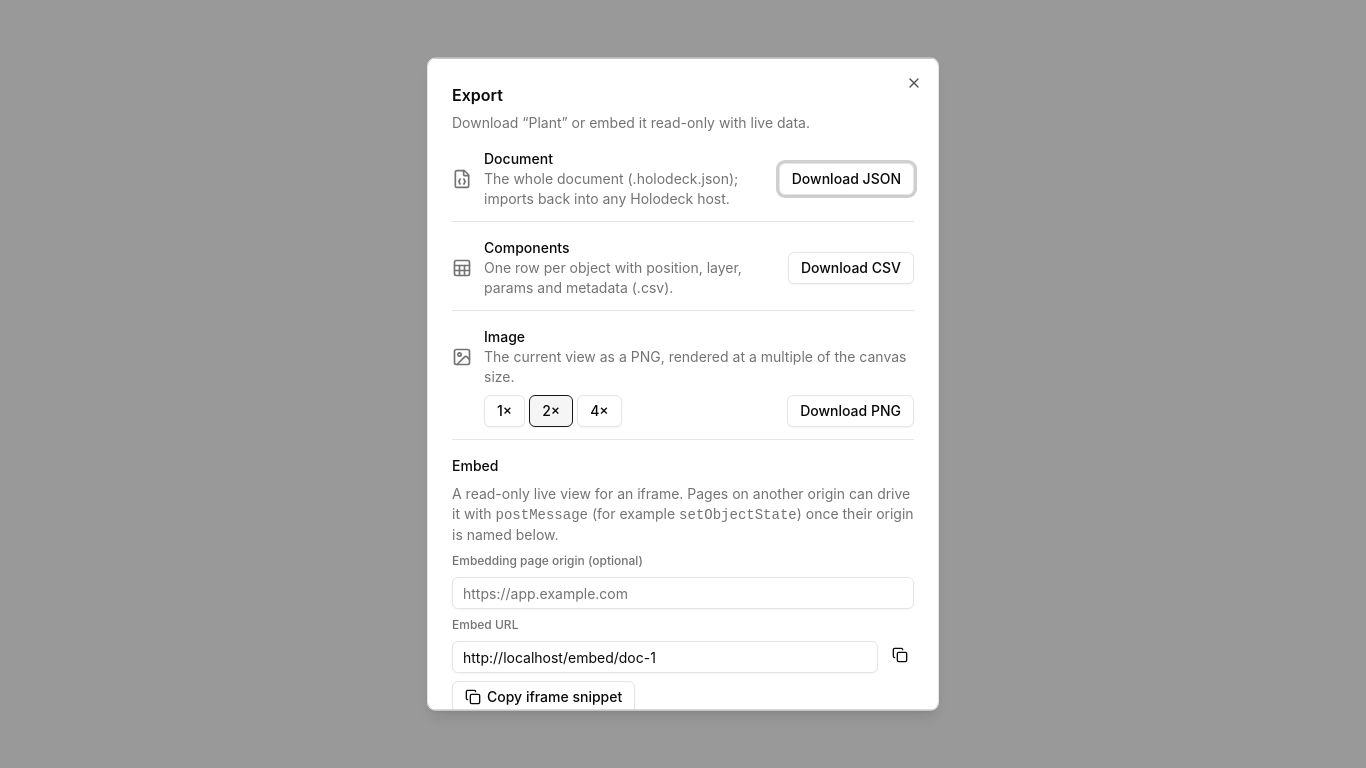
Scenario: ExportDialog › cancels a running PNG export without an error notice
The image size is (1366, 768).
Step 1. Click the button with test id "export-png" → (851, 411), box [787,395,914,427]
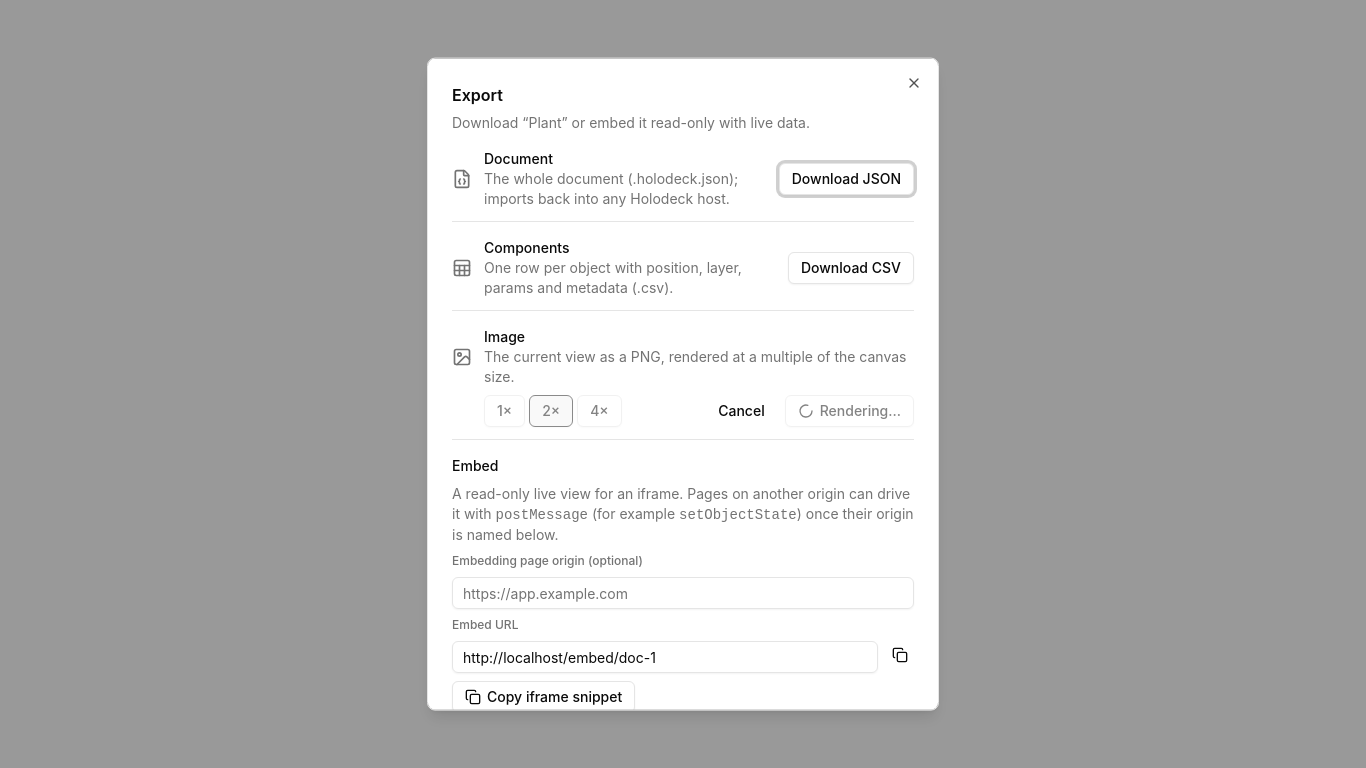
Check: the button "Rendering…" is shown, box [785,395,914,427]
Step 2. Click the button "Cancel" → (741, 411), box [706,395,777,427]
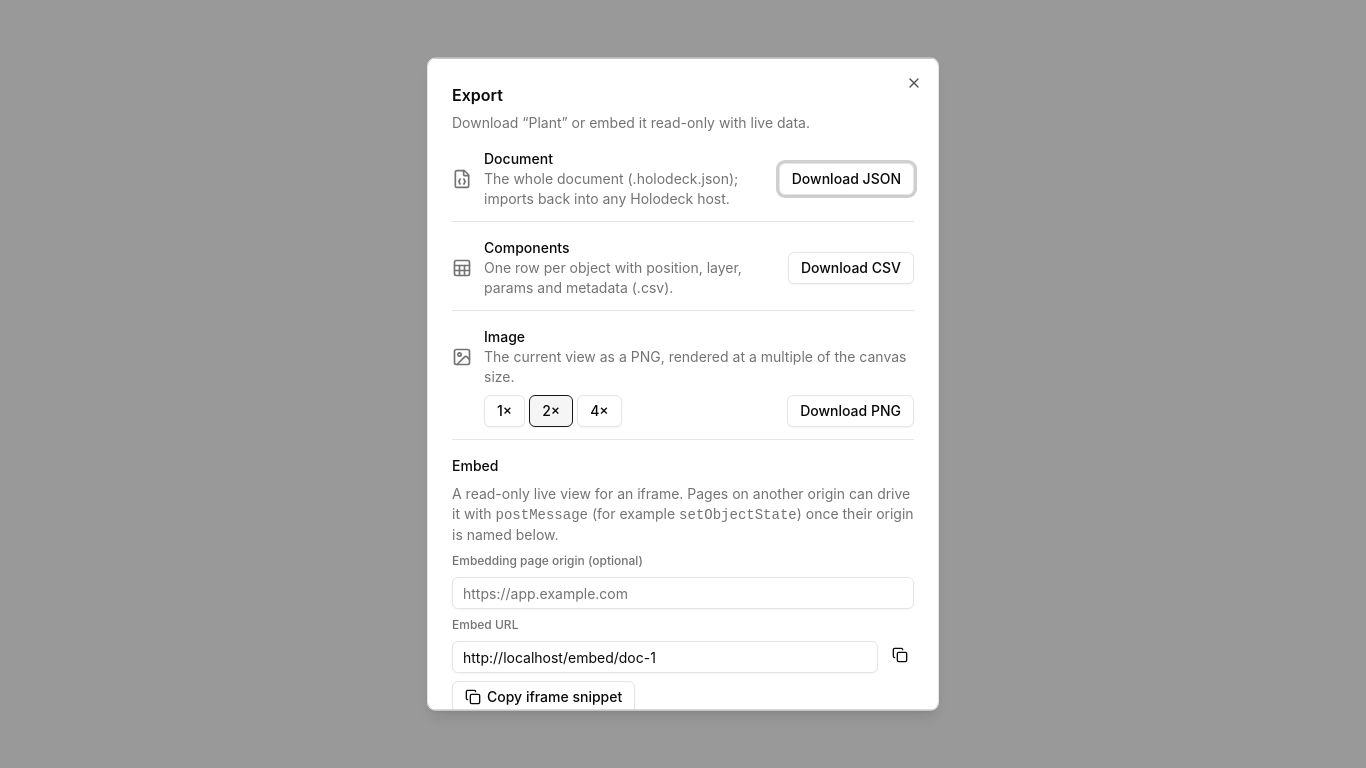
Check: the button with test id "export-png" reads "Download PNG", box [787,395,914,427]
